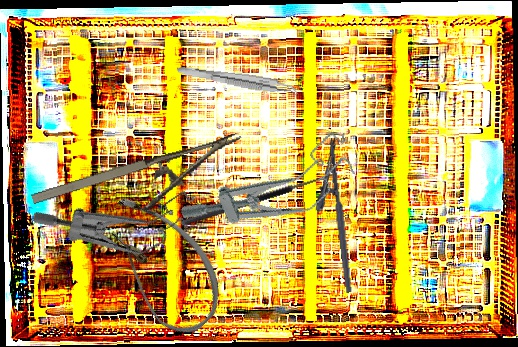Cannula: (78, 182, 242, 347)
Hook Surgical: (177, 161, 340, 228)
Needle Holder: (29, 132, 254, 238), (307, 137, 354, 296)
Speculum: (29, 141, 210, 295), (174, 127, 367, 256)
Tissue Forceps: (175, 64, 301, 99)
